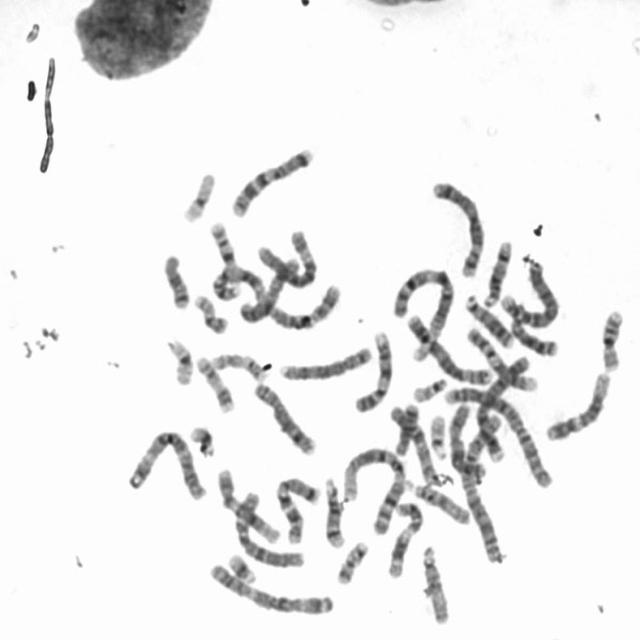A1: (386, 259, 456, 364), (336, 439, 409, 536)
A2: (439, 378, 556, 491), (455, 401, 509, 565)
A3: (202, 556, 336, 617), (121, 422, 209, 502)
B4: (473, 347, 533, 464), (496, 253, 562, 329)
B5: (403, 308, 495, 386), (427, 172, 488, 280)
C10: (253, 282, 344, 340), (385, 398, 444, 487)
C11: (382, 494, 426, 580), (212, 260, 268, 314)
C12: (212, 460, 284, 544), (540, 363, 614, 443)
C6: (228, 487, 306, 569), (252, 222, 320, 290)
C7: (225, 140, 317, 218), (269, 468, 322, 546)
C8: (247, 375, 319, 457), (274, 339, 375, 382)
C9: (461, 320, 540, 392), (349, 322, 395, 413)
D13: (460, 288, 515, 348), (504, 304, 560, 357)
D14: (479, 234, 515, 308), (319, 469, 348, 550)
D15: (408, 475, 472, 526), (416, 539, 453, 627)
E16: (204, 215, 243, 301), (595, 302, 627, 372)
E17: (190, 348, 238, 415), (206, 344, 268, 384)
E18: (158, 247, 192, 310), (389, 397, 422, 457)
F19: (177, 164, 218, 224), (160, 332, 196, 388)
F20: (331, 535, 371, 586), (189, 286, 230, 335)
G21: (223, 546, 259, 585), (184, 418, 218, 459)
G22: (424, 406, 451, 461), (407, 370, 450, 403)
X: (235, 251, 300, 325), (443, 396, 489, 484)
